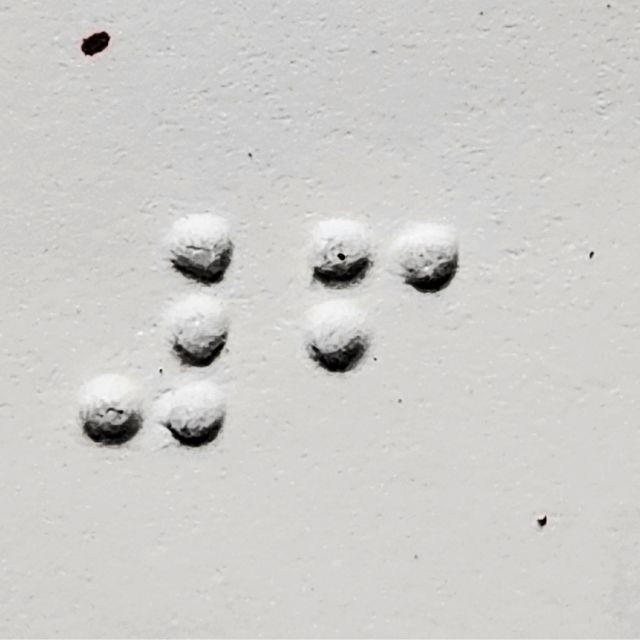6: (312, 214, 459, 449)
number: (85, 213, 232, 448)
